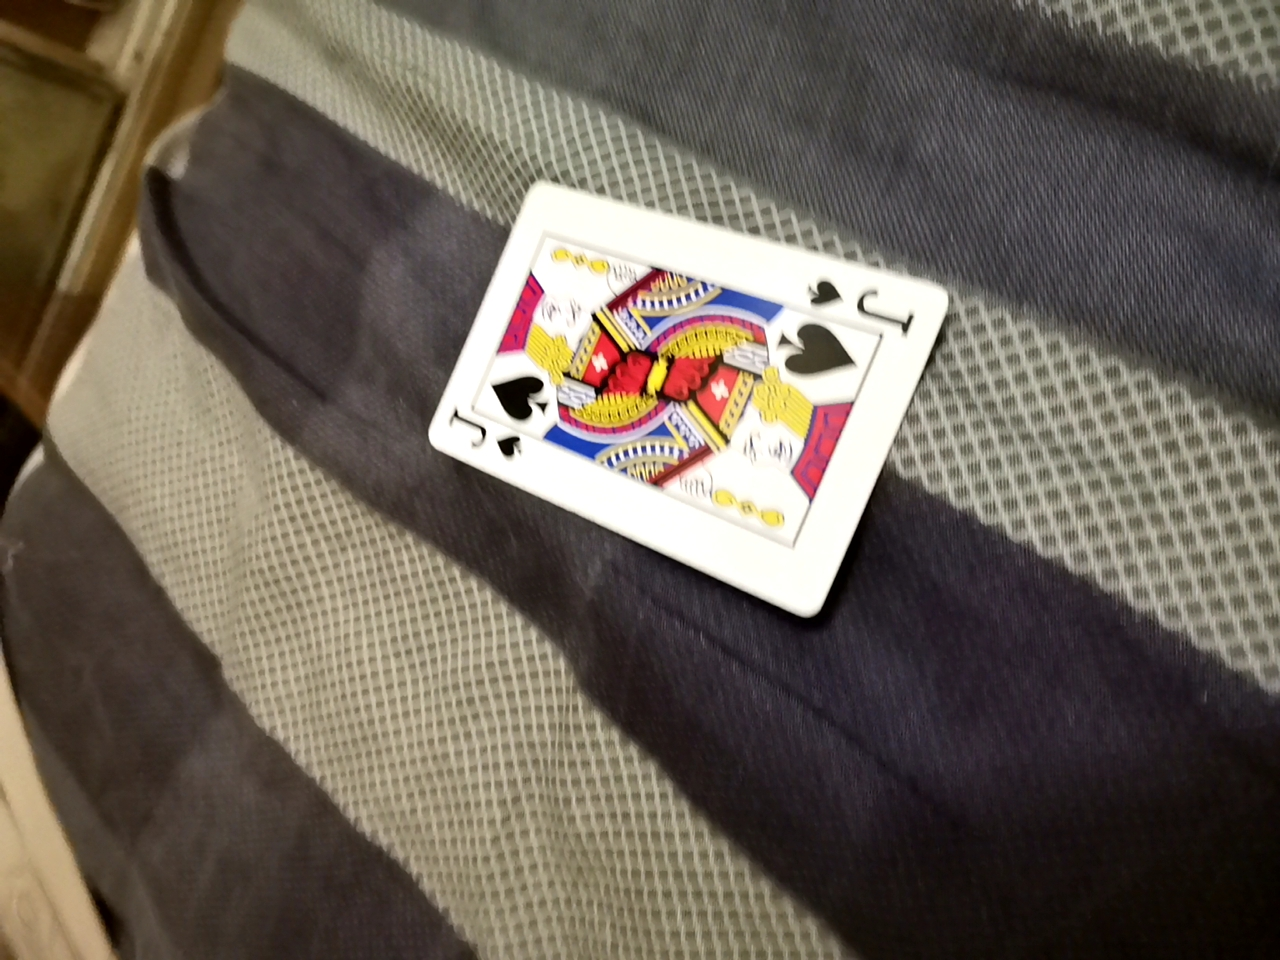ht j: (421, 185, 952, 611)
